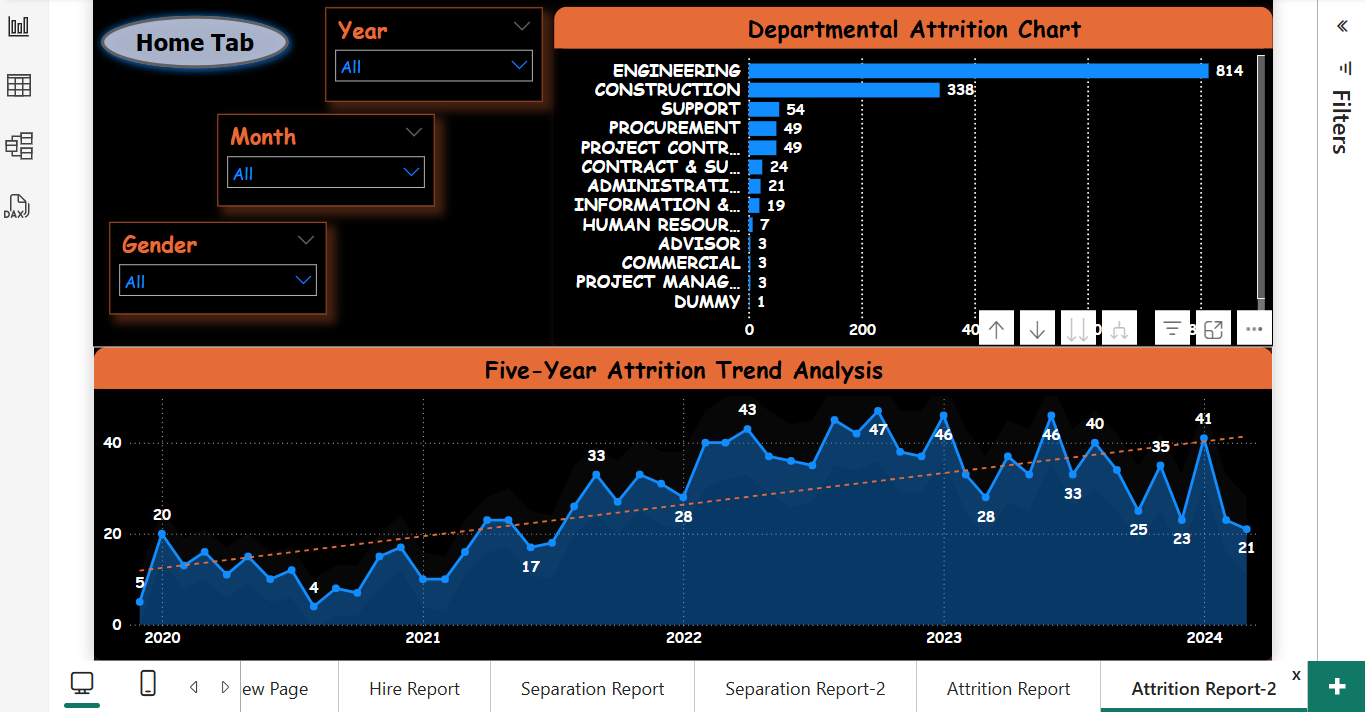

Layout of this report page (visuals, bound fields, positions):
{"tool":"powerbi","page":{"name":"Attrition Report-2","canvas":[1280,720],"ordinal":6},"visuals":[{"type":"clusteredBarChart","title":"Departmental Attrition Chart","fields":{"Category":["Hiretermination.Job Group"],"Y":["CountNonNull(Hiretermination.Employee Status)"]},"box":[499.5,9.5,781,377],"z":0},{"type":"lineChart","title":"Five-Year Attrition Trend Analysis","fields":{"Category":["Hiretermination.Termination Date.Variation.Date Hierarchy.Year","Hiretermination.Termination Date.Variation.Date Hierarchy.Month"],"Y":["CountNonNull(Hiretermination.Employee Status)"]},"box":[0,378.6,1280.4,342],"z":1000},{"type":"slicer","fields":{"Values":["Hiretermination.Termination Date.Variation.Date Hierarchy.Year"]},"box":[252.9,11.1,235.4,101.8],"z":2000},{"type":"slicer","fields":{"Values":["Hiretermination.Termination Date.Variation.Date Hierarchy.Month"]},"box":[135.2,127.2,235.4,100.2],"z":3000},{"type":"slicer","fields":{"Values":["Hiretermination.Gender"]},"box":[17.5,243.4,235.4,100.2],"z":4000},{"type":"actionButton","box":[0,11.1,221.1,74.8],"z":5000}]}

Visuals, with their boxes on the page's 1280x720 design canvas (x1, y1, x2, y2). These are canvas units, not pixel positions in the 1365x712 screenshot, which may show the page scaled, cropped or inside an application window:
"Departmental Attrition Chart" clusteredBarChart: [left=500, top=10, right=1280, bottom=386]
"Five-Year Attrition Trend Analysis" lineChart: [left=0, top=379, right=1280, bottom=721]
slicer - Hiretermination.Termination Date.Variation.Date Hierarchy.Year: [left=253, top=11, right=488, bottom=113]
slicer - Hiretermination.Termination Date.Variation.Date Hierarchy.Month: [left=135, top=127, right=371, bottom=227]
slicer - Hiretermination.Gender: [left=18, top=243, right=253, bottom=344]
actionButton: [left=0, top=11, right=221, bottom=86]
